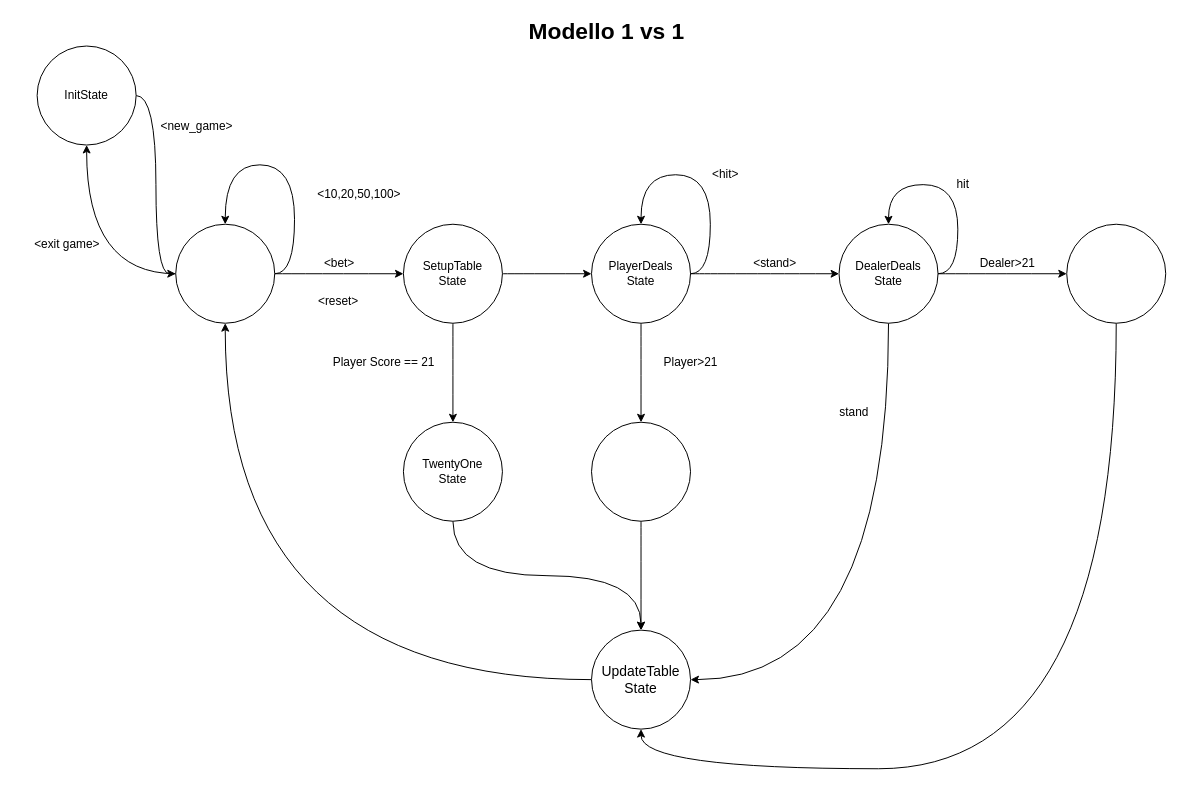
The diagram is 1183 pixels wide and 786 high, and some of its shapes have lost their labels. The shapes that lost their labels are listed below. From the top down, each one's centre as x and y in pixels, then its label:
At pixel 225 273: "Bet State".
At pixel 1116 273: "DealerBurst State".
At pixel 641 471: "PlayerBurst State".
